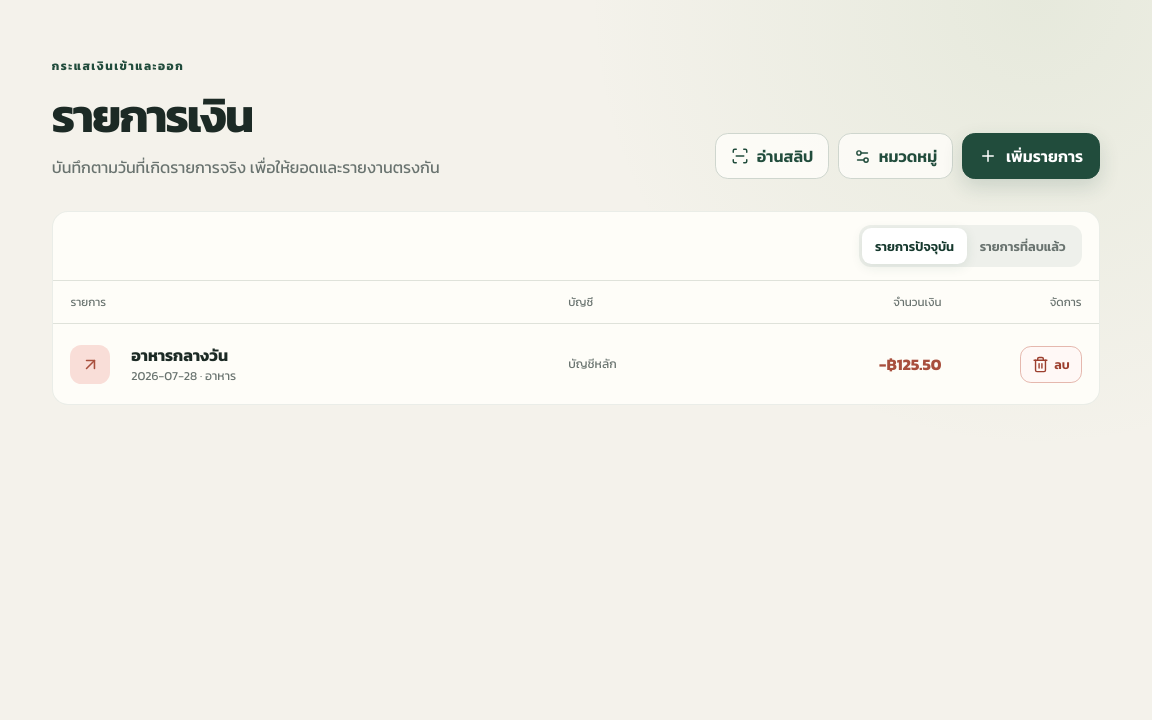
Test: TransactionsPage › voids a mistaken manual transaction and refreshes the snapshot
Click the button with aria-label "ลบรายการ อาหารกลางวัน" at [1051, 364], box [1020,346,1082,383]
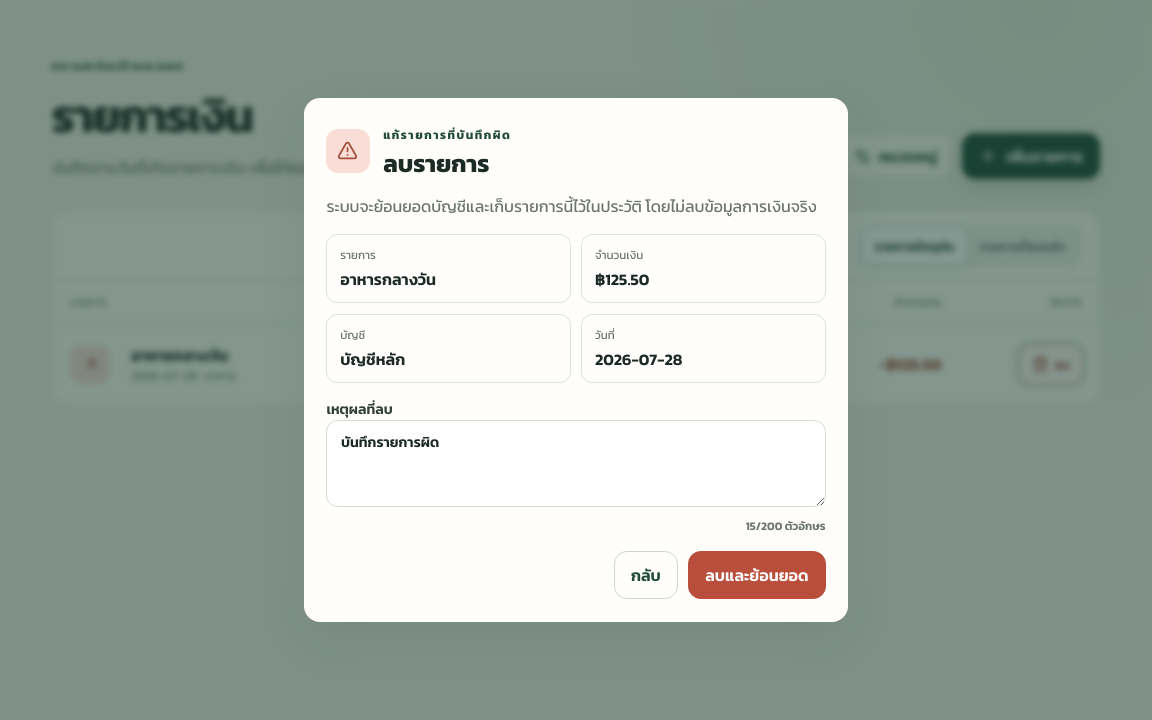
Now the dialog shows "อาหารกลางวัน", box [340,267,436,291]
Now the dialog shows "125.50", box [595,267,649,291]
Click the button "ลบและย้อนยอด" at [757, 575], box [688,551,826,599]
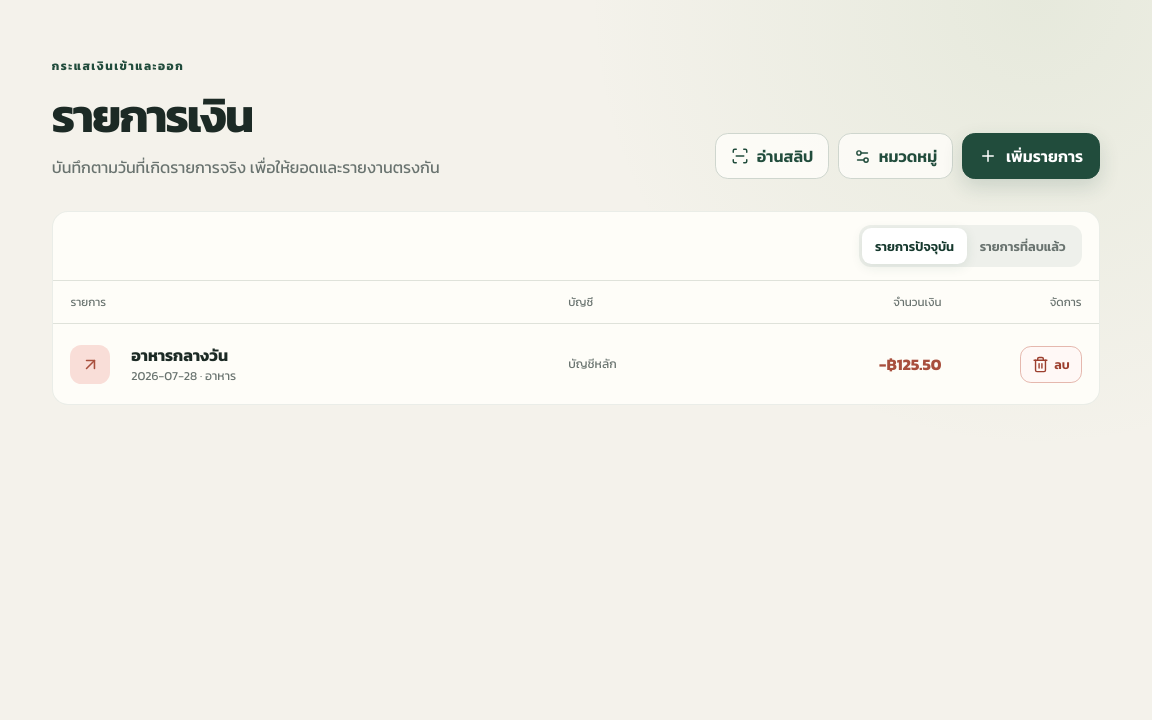
Now the dialog is gone
